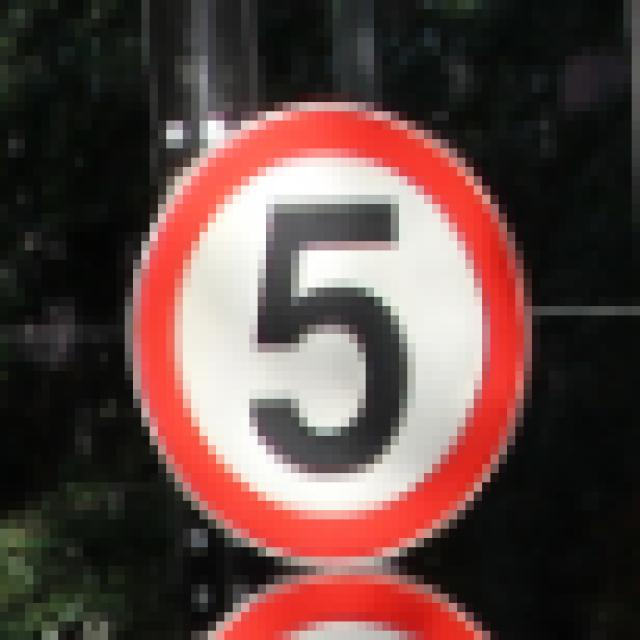Speed: (117, 72, 568, 567)
